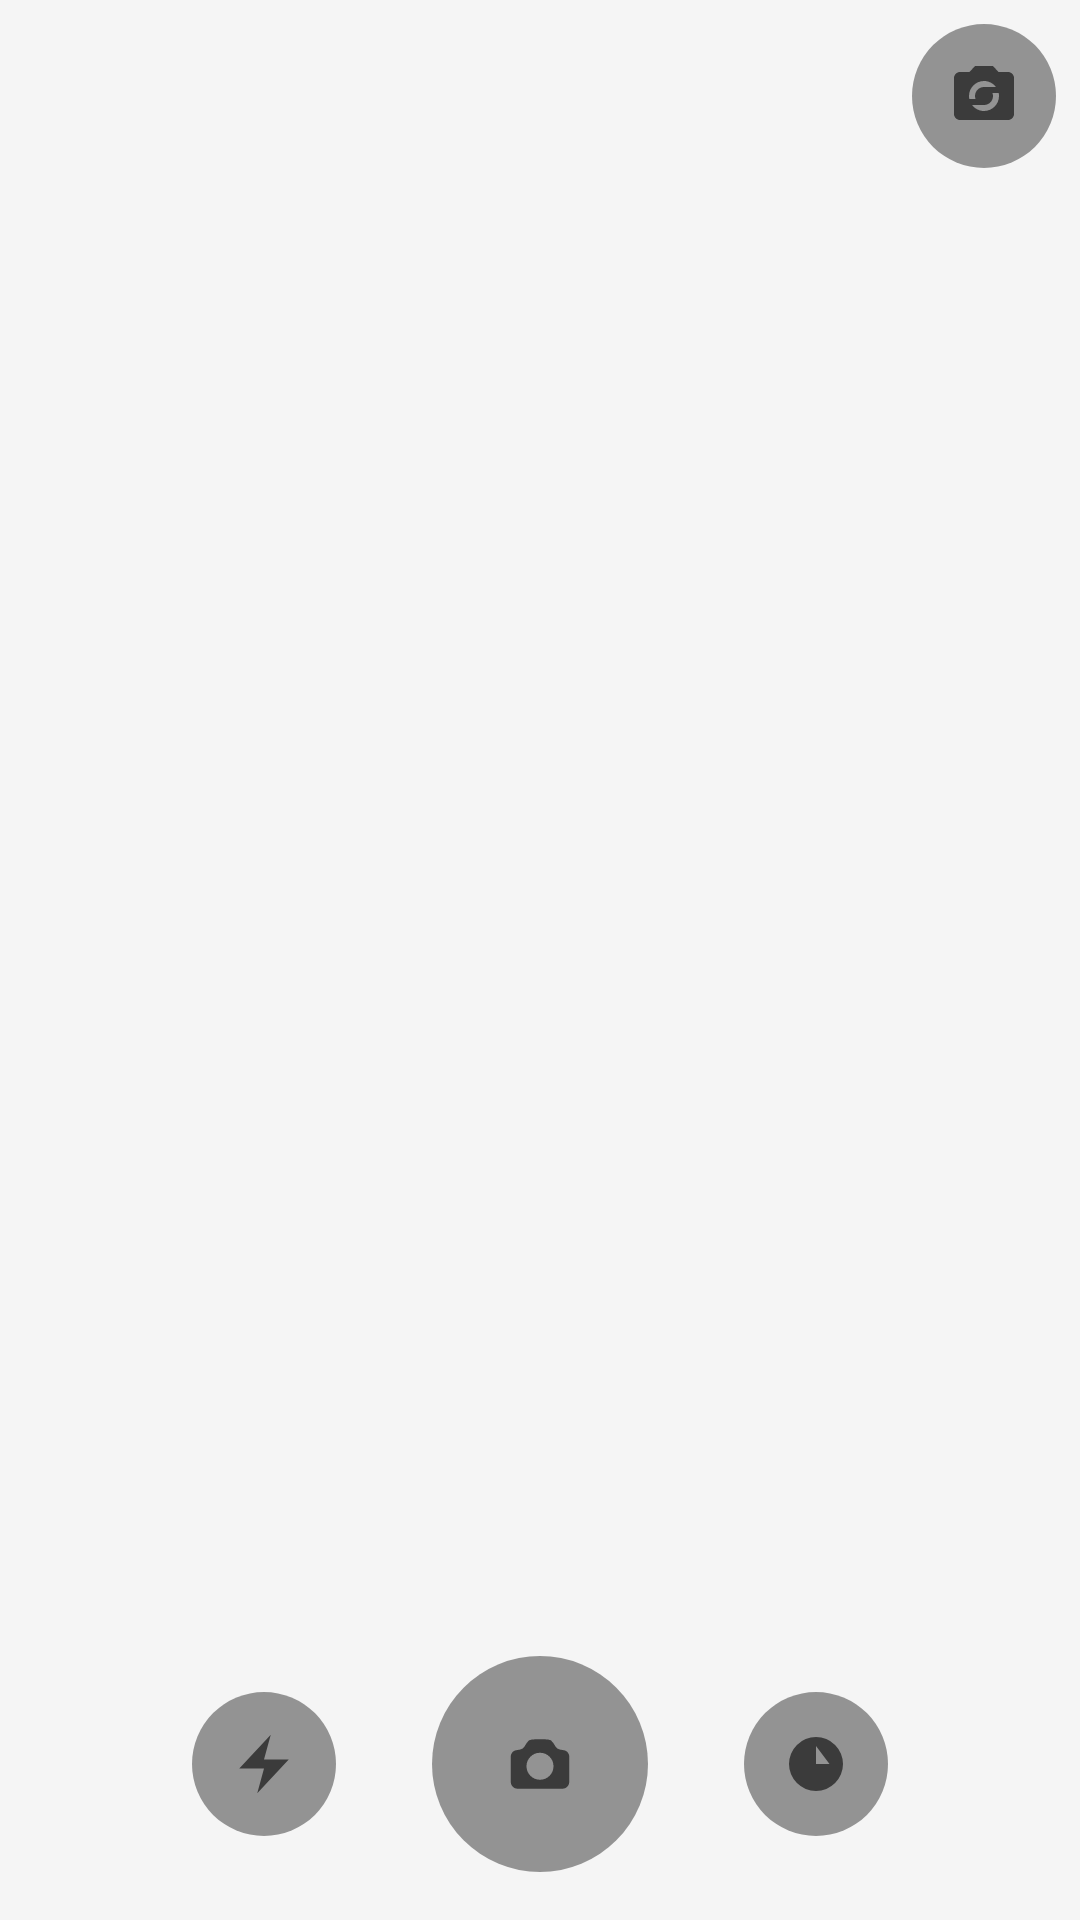

Where to tap for icons on this 1080w x 1920h app screen, as (x=x, y=y):
camera: (x=540, y=1764)
switch camera: (x=984, y=96)
timer: (x=816, y=1764)
